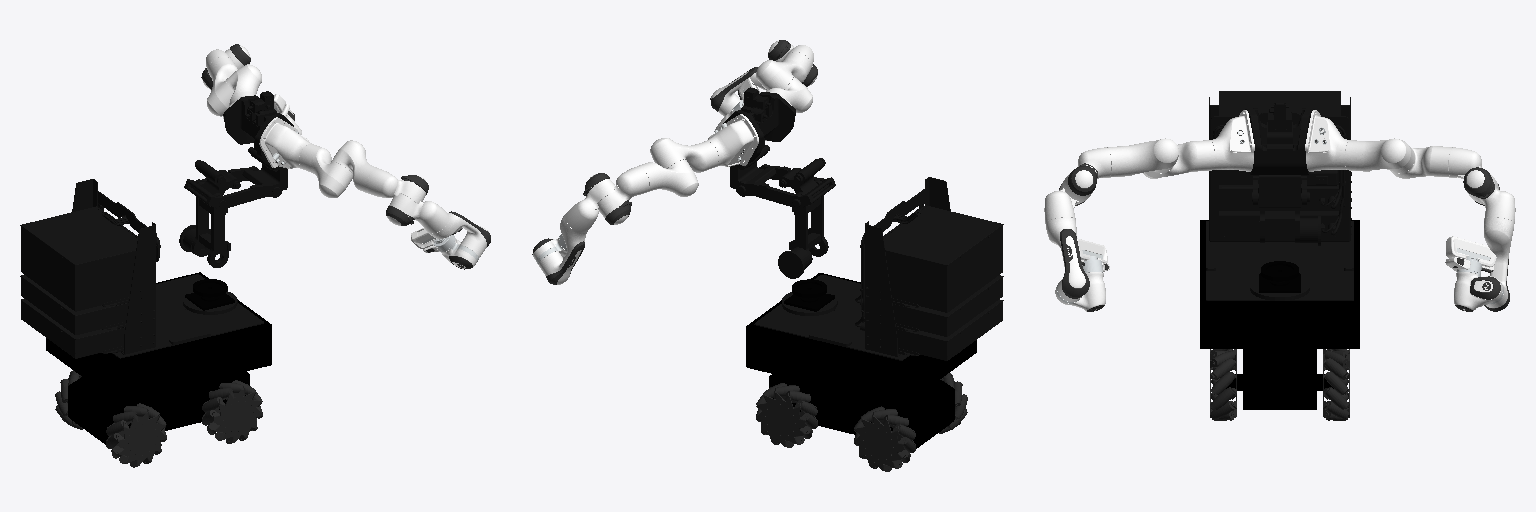
--- What the picture shows (computed from the rendered views, not written in the file) ---
The picture shows the robot from 3 angles, left to right: view 1: azimuth 30°, elevation 25°; view 2: azimuth 150°, elevation 25°; view 3: azimuth 270°, elevation 25°; orthographic projection.
Model curi with 35 links and 34 joints (21 revolute, 12 fixed, 1 floating), rooted at world, posed all joints at 0 but 2 set to mid-range because 0 is outside their limits (panda_left_joint4 = -1.57, panda_right_joint4 = -1.57).
Visible links, largest first — view 1: control_box, summit_xls_base_link, summit_xls_back_right_wheel_link, summit_xls_front_right_wheel_link, torso_link_b2, torso_end, torso_link_c1, panda_right_link0, panda_right_link1, panda_right_link4, panda_right_link3, panda_left_link2 (+7 smaller); view 2: control_box, summit_xls_base_link, summit_xls_back_left_wheel_link, summit_xls_front_left_wheel_link, torso_link_b2, torso_end, torso_link_c1, panda_left_link0, panda_left_link3, panda_left_link1, panda_left_link5, panda_left_link4 (+8 smaller); view 3: control_box, summit_xls_base_link, torso_end, panda_right_link2, panda_left_link1, panda_right_link5, panda_left_link0, panda_right_link0, summit_xls_front_left_wheel_link, summit_xls_front_right_wheel_link, panda_right_link3, panda_left_link4 (+10 smaller).
Boxes of the visible links, x1=… form: control_box: x1=20, y1=179, x2=263, y2=358; summit_xls_base_link: x1=46, y1=272, x2=271, y2=444; summit_xls_back_right_wheel_link: x1=106, y1=403, x2=166, y2=467; summit_xls_front_right_wheel_link: x1=202, y1=380, x2=262, y2=443; torso_link_b2: x1=179, y1=182, x2=230, y2=267; torso_end: x1=223, y1=95, x2=293, y2=189; torso_link_c1: x1=184, y1=166, x2=282, y2=210; panda_right_link0: x1=259, y1=117, x2=311, y2=168; panda_right_link1: x1=299, y1=144, x2=352, y2=197; panda_right_link4: x1=386, y1=193, x2=448, y2=232; panda_right_link3: x1=367, y1=169, x2=428, y2=203; panda_left_link2: x1=207, y1=57, x2=237, y2=116; control_box: x1=754, y1=177, x2=1003, y2=360; summit_xls_base_link: x1=746, y1=273, x2=976, y2=448; summit_xls_back_left_wheel_link: x1=854, y1=406, x2=915, y2=471; summit_xls_front_left_wheel_link: x1=756, y1=383, x2=817, y2=447; torso_link_b2: x1=778, y1=180, x2=828, y2=278; torso_end: x1=723, y1=92, x2=795, y2=188; torso_link_c1: x1=735, y1=164, x2=835, y2=209; panda_left_link0: x1=704, y1=114, x2=758, y2=166; panda_left_link3: x1=598, y1=167, x2=648, y2=224; panda_left_link1: x1=650, y1=138, x2=718, y2=172; panda_left_link5: x1=538, y1=214, x2=587, y2=284; panda_left_link4: x1=566, y1=173, x2=614, y2=232; control_box: x1=1206, y1=91, x2=1353, y2=300; summit_xls_base_link: x1=1200, y1=220, x2=1359, y2=409; torso_end: x1=1245, y1=108, x2=1314, y2=207; panda_right_link2: x1=1107, y1=138, x2=1178, y2=177; panda_left_link1: x1=1345, y1=138, x2=1414, y2=172; panda_right_link5: x1=1045, y1=217, x2=1089, y2=301; panda_left_link0: x1=1305, y1=110, x2=1348, y2=171; panda_right_link0: x1=1211, y1=110, x2=1254, y2=171; summit_xls_front_left_wheel_link: x1=1323, y1=351, x2=1349, y2=420; summit_xls_front_right_wheel_link: x1=1210, y1=351, x2=1236, y2=420; panda_right_link3: x1=1063, y1=147, x2=1111, y2=200; panda_left_link4: x1=1463, y1=167, x2=1515, y2=222.
Size in the robot's own frame: 1.62 by 1.7 by 1.39 metres.
Meshes: 22 distinct files referenced, 31 mesh visuals loaded (20 Collada DAE); not drawn: 2 (reference not matched to a file when rendering).

The robot description file, URDF, robot "curi":
<?xml version="1.0" ?>
<!-- =================================================================================== -->
<!-- |    This document was autogenerated by xacro from ../robots/curi.urdf.xacro      | -->
<!-- |    EDITING THIS FILE BY HAND IS NOT RECOMMENDED                                 | -->
<!-- =================================================================================== -->
<robot name="curi">
  <!-- in kg-->
  <!-- =============================================================== -->
  <!-- || This file does not contain official inertial properties   || -->
  <!-- || of panda robot. The values are from the identification    || -->
  <!-- || results published in: Identification of the Franka Emika  || -->
  <!-- || PandaRobot With Retrieval of Feasible Parameters Using    || -->
  <!-- || Penalty-Based Optimization                                || -->
  <!-- || by: Claudio Gaz, Marco Cognetti, Alexander Oliva,         || -->
  <!-- || Paolo Robuffo Giordano, Alessandro de Luca                || -->
  <!-- =============================================================== -->
  <link name="world"/>
  <joint name="reference" type="floating">
    <parent link="world"/>
    <child link="summit_xls_base_footprint"/>
  </joint>
  <link name="summit_xls_base_footprint">
    <visual>
      <origin rpy="0 0 0" xyz="0 0 0"/>
      <geometry>
        <box size="0.001 0.001 0.001"/>
      </geometry>
    </visual>
  </link>
  <joint name="summit_xls_base_footprint_joint" type="fixed">
    <origin rpy="0 0 0" xyz="0 0 0.127"/>
    <parent link="summit_xls_base_footprint"/>
    <child link="summit_xls_base_link"/>
  </joint>
  <!-- BASE_LINK -->
  <link name="summit_xls_base_link">
    <inertial>
      <mass value="125.0"/>
      <origin xyz="0 0 0"/>
      <inertia ixx="1.391" ixy="0.004" ixz="0.0" iyy="6.853" iyz="0.0" izz="6.125"/>
    </inertial>
    <visual>
      <origin rpy="0 0 0" xyz="0 0 0"/>
      <geometry>
        <mesh filename="../meshes/robotnik/bases/summit_xls_chassis.dae"/>
      </geometry>
      <material name="black">
        <color rgba="0.0 0.0 0.0 1"/>
      </material>
    </visual>
    <collision>
      <origin rpy="0 0 0 " xyz="0 0 0"/>
      <geometry>
        <mesh filename="../meshes/robotnik/bases/summit_xls_chassis.stl"/>
      </geometry>
    </collision>
  </link>
  <joint name="summit_xls_front_right_wheel_joint" type="fixed">
    <parent link="summit_xls_base_link"/>
    <child link="summit_xls_front_right_wheel_link"/>
    <origin rpy="0 0 0" xyz="0.2225 -0.2045 0.0"/>
  </joint>
  <link name="summit_xls_front_right_wheel_link">
    <visual>
      <origin rpy="0 0 0" xyz="0 0 0"/>
      <geometry>
        <mesh filename="../meshes/robotnik/wheels/omni_wheel_2.dae"/>
      </geometry>
      <material name="darkgrey">
        <color rgba="0.2 0.2 0.2 1"/>
      </material>
    </visual>
    <collision>
      <origin rpy="1.5707963267948966 0 0" xyz="0 0 0"/>
      <geometry>
        <cylinder length="0.087" radius="0.127"/>
      </geometry>
    </collision>
    <inertial>
      <mass value="6.5"/>
      <origin xyz="0 0 0"/>
      <inertia ixx="0.0303095" ixy="0" ixz="0" iyy="0.05241925" iyz="0" izz="0.0303095"/>
    </inertial>
  </link>
  <joint name="summit_xls_front_left_wheel_joint" type="fixed">
    <parent link="summit_xls_base_link"/>
    <child link="summit_xls_front_left_wheel_link"/>
    <origin rpy="0 0 0" xyz="0.2225 0.2045 0.0"/>
  </joint>
  <link name="summit_xls_front_left_wheel_link">
    <visual>
      <origin rpy="0 0 0" xyz="0 0 0"/>
      <geometry>
        <mesh filename="../meshes/robotnik/wheels/omni_wheel_1.dae"/>
      </geometry>
      <material name="darkgrey">
        <color rgba="0.2 0.2 0.2 1"/>
      </material>
    </visual>
    <collision>
      <origin rpy="1.5707963267948966 0 0" xyz="0 0 0"/>
      <geometry>
        <cylinder length="0.087" radius="0.127"/>
      </geometry>
    </collision>
    <inertial>
      <mass value="6.5"/>
      <origin xyz="0 0 0"/>
      <inertia ixx="0.0303095" ixy="0" ixz="0" iyy="0.05241925" iyz="0" izz="0.0303095"/>
    </inertial>
  </link>
  <joint name="summit_xls_back_left_wheel_joint" type="fixed">
    <parent link="summit_xls_base_link"/>
    <child link="summit_xls_back_left_wheel_link"/>
    <origin rpy="0 0 0" xyz="-0.2225 0.2045 0.0"/>
  </joint>
  <link name="summit_xls_back_left_wheel_link">
    <visual>
      <origin rpy="0 0 0" xyz="0 0 0"/>
      <geometry>
        <mesh filename="../meshes/robotnik/wheels/omni_wheel_1.dae"/>
      </geometry>
      <material name="darkgrey">
        <color rgba="0.2 0.2 0.2 1"/>
      </material>
    </visual>
    <collision>
      <origin rpy="1.5707963267948966 0 0" xyz="0 0 0"/>
      <geometry>
        <cylinder length="0.087" radius="0.127"/>
      </geometry>
    </collision>
    <inertial>
      <mass value="6.5"/>
      <origin xyz="0 0 0"/>
      <inertia ixx="0.0303095" ixy="0" ixz="0" iyy="0.05241925" iyz="0" izz="0.0303095"/>
    </inertial>
  </link>
  <joint name="summit_xls_back_right_wheel_joint" type="fixed">
    <parent link="summit_xls_base_link"/>
    <child link="summit_xls_back_right_wheel_link"/>
    <origin rpy="0 0 0" xyz="-0.2225 -0.2045 0.0"/>
  </joint>
  <link name="summit_xls_back_right_wheel_link">
    <visual>
      <origin rpy="0 0 0" xyz="0 0 0"/>
      <geometry>
        <mesh filename="../meshes/robotnik/wheels/omni_wheel_2.dae"/>
      </geometry>
      <material name="darkgrey">
        <color rgba="0.2 0.2 0.2 1"/>
      </material>
    </visual>
    <collision>
      <origin rpy="1.5707963267948966 0 0" xyz="0 0 0"/>
      <geometry>
        <cylinder length="0.087" radius="0.127"/>
      </geometry>
    </collision>
    <inertial>
      <mass value="6.5"/>
      <origin xyz="0 0 0"/>
      <inertia ixx="0.0303095" ixy="0" ixz="0" iyy="0.05241925" iyz="0" izz="0.0303095"/>
    </inertial>
  </link>
  <joint name="torso_joint_summit_xls_base_footprint" type="fixed">
    <parent link="summit_xls_base_footprint"/>
    <child link="control_box"/>
    <origin rpy="0 0 0" xyz="0 0 0.52262"/>
  </joint>
  <link name="control_box">
    <visual>
      <origin rpy="0 0 0" xyz="0 0 0"/>
      <geometry>
        <mesh filename="../meshes/clover/visual/control_box.dae"/>
      </geometry>
    </visual>
    <collision>
      <origin rpy="0 0 0" xyz="0 0 0"/>
      <geometry>
        <mesh filename="../meshes/clover/collision/control_box.stl"/>
      </geometry>
    </collision>
    <inertial>
      <!-- Estimated guesses from CAD -->
      <origin rpy="0 0 0" xyz="-0.221652 1.4173e-02 0.165597"/>
      <mass value="37.813"/>
      <inertia ixx="1.672305973" ixy="-0.023504956" ixz="-0.565170381" iyy="2.616747309" iyz="0.046623093" izz="2.524344244"/>
    </inertial>
  </link>
  <link name="torso_base1">
    <visual>
      <origin rpy="0 0 0" xyz="0 0 0"/>
      <geometry>
        <mesh filename="../meshes/clover/visual/torso_base1.dae"/>
      </geometry>
    </visual>
    <collision>
      <origin rpy="0 0 0" xyz="0 0 0"/>
      <geometry>
        <mesh filename="../meshes/clover/collision/torso_base1.stl"/>
      </geometry>
    </collision>
    <inertial>
      <origin rpy="0 0 0" xyz="0 0 0.02555"/>
      <mass value="1.18"/>
      <inertia ixx="0.00241116" ixy="0" ixz="0" iyy="0.00241116" iyz="0" izz="0.00362611"/>
    </inertial>
  </link>
  <joint name="torso_joint1" type="fixed">
    <origin rpy="0 0 0" xyz="0.2375 0 0.015"/>
    <parent link="control_box"/>
    <child link="torso_base1"/>
  </joint>
  <link name="torso_base2">
    <visual>
      <origin rpy="0 0 0" xyz="0 0 0"/>
      <geometry>
        <mesh filename="../meshes/clover/visual/torso_base2.dae"/>
      </geometry>
    </visual>
    <collision>
      <origin rpy="0 0 0" xyz="0 0 0"/>
      <geometry>
        <mesh filename="../meshes/clover/collision/torso_base2.stl"/>
      </geometry>
    </collision>
    <inertial>
      <origin rpy="0 0 0" xyz="-0.05478 0.03332 -0.07616"/>
      <mass value="35.66"/>
      <inertia ixx="0.87275935" ixy="-0.06173772" ixz="0.01895727" iyy="0.57302356" iyz="0.11888755" izz="1.06212354"/>
    </inertial>
  </link>
  <joint name="torso_actuated_joint1" type="revolute">
    <safety_controller k_position="100.0" k_velocity="40.0" soft_lower_limit="-1.5" soft_upper_limit="1.5"/>
    <origin rpy="0 0 0" xyz="0 0 0.215"/>
    <parent link="torso_base1"/>
    <child link="torso_base2"/>
    <axis xyz="0 0 1"/>
    <limit acceleration="0.6" effort="300" lower="-1.57" upper="1.57" velocity="0.3"/>
    <dynamics D="1" K="7000" damping="0.003" friction="0.0" mu_coulomb="0" mu_viscous="16"/>
  </joint>
  <link name="torso_link_b2">
    <visual>
      <origin rpy="0 0 0" xyz="0 0 0"/>
      <geometry>
        <mesh filename="../meshes/clover/visual/torso_link_b2.dae"/>
      </geometry>
    </visual>
    <collision>
      <origin rpy="0 0 0" xyz="0 0 0"/>
      <geometry>
        <mesh filename="../meshes/clover/collision/torso_link_b2.stl"/>
      </geometry>
    </collision>
    <inertial>
      <origin rpy="0 0 0" xyz="2.066e-03 2.4036e-02 8.3361e-02"/>
      <mass value="2.698"/>
      <inertia ixx="0.035907338" ixy="-0.000134319" ixz="0.000037769" iyy="0.023944853" iyz="-0.005304362" izz="0.014484777"/>
    </inertial>
  </link>
  <joint name="torso_actuated_joint2" type="revolute">
    <safety_controller k_position="100.0" k_velocity="40.0" soft_lower_limit="-1.2" soft_upper_limit="0.5"/>
    <origin rpy="0 0 0" xyz="0 0 0"/>
    <parent link="torso_base2"/>
    <child link="torso_link_b2"/>
    <axis xyz="0 1 0"/>
    <limit acceleration="0.6" effort="300" lower="-1.2" upper="0.5" velocity="0.3"/>
    <dynamics D="1" K="7000" damping="0.003" friction="0.0" mu_coulomb="0" mu_viscous="16"/>
  </joint>
  <link name="torso_middle">
    <visual>
      <origin rpy="0 0 0" xyz="0 0 0"/>
      <geometry>
        <mesh filename="../meshes/clover/visual/torso_middle.dae"/>
      </geometry>
    </visual>
    <collision>
      <origin rpy="0 0 0" xyz="0 0 0"/>
      <geometry>
        <mesh filename="../meshes/clover/collision/torso_middle.stl"/>
      </geometry>
    </collision>
    <inertial>
      <origin rpy="0 0 0" xyz="3.2089e-02 0 4.789e-02"/>
      <mass value="2.688"/>
      <inertia ixx="0.00744652" ixy="-0.00003495" ixz="0.000230038" iyy="0.006884728" iyz="0.000041279" izz="0.008084049"/>
    </inertial>
  </link>
  <joint name="torso_joint5" type="revolute">
    <safety_controller k_position="100.0" k_velocity="40.0" soft_lower_limit="-0.5" soft_upper_limit="1.2"/>
    <origin rpy="0 0 0" xyz="0 0 0.25"/>
    <parent link="torso_link_b2"/>
    <child link="torso_middle"/>
    <axis xyz="0 1 0"/>
    <limit acceleration="0.6" effort="300" lower="-0.5" upper="1.2" velocity="0.3"/>
    <dynamics D="1" K="7000" damping="0.003" friction="0.0" mu_coulomb="0" mu_viscous="16"/>
    <mimic joint="torso_actuated_joint2" multiplier="-1"/>
  </joint>
  <link name="torso_link_c1">
    <visual>
      <origin rpy="0 0 0" xyz="0 0 0"/>
      <geometry>
        <mesh filename="../meshes/clover/visual/torso_link_c1.dae"/>
      </geometry>
    </visual>
    <collision>
      <origin rpy="0 0 0" xyz="0 0 0"/>
      <geometry>
        <mesh filename="../meshes/clover/collision/torso_link_c1.stl"/>
      </geometry>
    </collision>
    <inertial>
      <origin rpy="0 0 0" xyz="0.10533 1.503e-03 9.863e-03"/>
      <mass value="2.4"/>
      <inertia ixx="0.014986407" ixy="-1.7102e-05" ixz="-4.53321e-04" iyy="0.027549549" iyz="-3.557e-05" izz="0.041344611"/>
    </inertial>
  </link>
  <joint name="torso_actuated_joint3" type="revolute">
    <safety_controller k_position="100.0" k_velocity="40.0" soft_lower_limit="-0.9" soft_upper_limit="0.9"/>
    <origin rpy="0 0 0" xyz="0 0 0"/>
    <parent link="torso_middle"/>
    <child link="torso_link_c1"/>
    <axis xyz="0 1 0"/>
    <limit acceleration="0.6" effort="300" lower="-0.9" upper="0.9" velocity="0.3"/>
    <dynamics D="1" K="7000" damping="0.003" friction="0.0" mu_coulomb="0" mu_viscous="16"/>
  </joint>
  <link name="torso_end">
    <visual>
      <origin rpy="0 0 0" xyz="0 0 0"/>
      <geometry>
        <mesh filename="../meshes/clover/visual/torso_end.dae"/>
      </geometry>
    </visual>
    <collision>
      <origin rpy="0 0 0" xyz="0 0 0"/>
      <geometry>
        <mesh filename="../meshes/clover/collision/torso_end.stl"/>
      </geometry>
    </collision>
    <inertial>
      <origin rpy="0 0 0" xyz="1.3086e-02 0.132e-03 0.184066"/>
      <mass value="12.083"/>
      <inertia ixx="0.146638956" ixy="-2.2432e-05" ixz="-0.012989506" iyy="0.097685785" iyz="-2.19304e-04" izz="0.100449047"/>
    </inertial>
  </link>
  <joint name="torso_joint8" type="revolute">
    <safety_controller k_position="100.0" k_velocity="40.0" soft_lower_limit="-0.9" soft_upper_limit="0.9"/>
    <origin rpy="0 0 0" xyz="0.25 0 0"/>
    <parent link="torso_link_c1"/>
    <child link="torso_end"/>
    <axis xyz="0 1 0"/>
    <limit acceleration="0.6" effort="300" lower="-0.9" upper="0.9" velocity="0.3"/>
    <dynamics D="1" K="7000" damping="0.003" friction="0.0" mu_coulomb="0" mu_viscous="16"/>
    <mimic joint="torso_actuated_joint3" multiplier="-1"/>
  </joint>
  <joint name="head_joint_torso_end" type="fixed">
    <parent link="torso_end"/>
    <child link="head_base"/>
    <origin rpy="0 0 0" xyz="0.01466 0 0.2775"/>
  </joint>
  <link name="head_base">
    <visual>
      <origin rpy="0 0 0" xyz="0 0 0"/>
      <geometry>
        <mesh filename="../meshes/clover/visual/head_base.dae"/>
      </geometry>
    </visual>
    <collision>
      <origin rpy="0 0 0" xyz="0 0 0"/>
      <geometry>
        <mesh filename="../meshes/clover/collision/head_base.stl"/>
      </geometry>
    </collision>
    <inertial>
      <!-- Estimated guesses from CAD -->
      <origin rpy="0 0 0" xyz="-1.9726e-02 1.281e-03 2.2693e-02"/>
      <mass value="0.803"/>
      <inertia ixx="6.56432e-04" ixy="-3.4976e-05" ixz="0.652e-6" iyy="6.42664e-04" iyz="-1.577e-06" izz="1.046862e-03"/>
    </inertial>
  </link>
  <joint name="head_actuated_joint1" type="revolute">
    <safety_controller k_position="100.0" k_velocity="40.0" soft_lower_limit="-1.5" soft_upper_limit="1.5"/>
    <origin rpy="0 0 0" xyz="0 0 0.045"/>
    <parent link="head_base"/>
    <child link="head_link1"/>
    <axis xyz="0 0 1"/>
    <limit effort="30" lower="-1.57" upper="1.57" velocity="1.0"/>
    <dynamics D="1" K="7000" damping="0.003" friction="0.0" mu_coulomb="0" mu_viscous="16"/>
  </joint>
  <link name="head_link1">
    <visual>
      <origin rpy="0 0 0" xyz="0 0 0"/>
      <geometry>
        <mesh filename="../meshes/clover/visual/head_link1.dae"/>
      </geometry>
    </visual>
    <collision>
      <origin rpy="0 0 0" xyz="0 0 0"/>
      <geometry>
        <mesh filename="../meshes/clover/collision/head_link1.stl"/>
      </geometry>
    </collision>
    <inertial>
      <!-- Estimated guesses from CAD -->
      <origin rpy="0 0 0" xyz="-1.8392e-02 -0.4e-03 2.8338e-02"/>
      <mass value="0.534"/>
      <inertia ixx="2.34142e-04" ixy="-3.129e-06" ixz="6.321e-05" iyy="5.09246e-04" iyz="1.49e-06" izz="4.3777e-04"/>
    </inertial>
  </link>
  <joint name="head_actuated_joint2" type="revolute">
    <safety_controller k_position="100.0" k_velocity="40.0" soft_lower_limit="-0.8" soft_upper_limit="0.5"/>
    <origin rpy="0 0 0" xyz="0 0 0.043"/>
    <parent link="head_link1"/>
    <child link="head_link2"/>
    <axis xyz="0 1 0"/>
    <limit effort="30" lower="-0.82" upper="0.52" velocity="1.0"/>
    <dynamics D="1" K="7000" damping="0.003" friction="0.0" mu_coulomb="0" mu_viscous="16"/>
  </joint>
  <link name="head_link2">
    <visual>
      <origin rpy="0 0 0" xyz="0 0 0"/>
      <geometry>
        <mesh filename="../meshes/clover/visual/head_link2.dae"/>
      </geometry>
    </visual>
    <collision>
      <origin rpy="0 0 0" xyz="0 0 0"/>
      <geometry>
        <mesh filename="../meshes/clover/collision/head_link2.stl"/>
      </geometry>
    </collision>
    <inertial>
      <!-- Estimated guesses from CAD -->
      <origin rpy="0 0 0" xyz="3.8624e-02 0 0.143829"/>
      <mass value="1.346"/>
      <inertia ixx="0.010306864" ixy="-5.953e-06" ixz="6.74795e-04" iyy="0.011632066" iyz="-1.125e-06" izz="0.009582498"/>
    </inertial>
  </link>
  <joint name="panda_left_joint_torso_end" type="fixed">
    <parent link="torso_end"/>
    <child link="panda_left_link0"/>
    <origin rpy="-1.5004311592913677 0.8772798703277918 -0.2038499389018784" xyz="0.02842 0.11216 0.19004"/>
  </joint>
  <link name="panda_left_link0">
    <visual>
      <origin rpy="0 0 0" xyz="0 0 0"/>
      <geometry>
        <mesh filename="../meshes/franka/visual/link0.dae"/>
      </geometry>
    </visual>
    <collision>
      <origin rpy="0 0 0" xyz="0 0 0"/>
      <geometry>
        <mesh filename="../meshes/franka/collision/link0.stl"/>
      </geometry>
    </collision>
    <inertial>
      <!-- Estimated guesses from CAD -->
      <origin rpy="0 0 0" xyz="-0.041018 -0.00014 0.049974"/>
      <mass value="0.629769"/>
      <inertia ixx="0.00315" ixy="8.2904E-07" ixz="0.00015" iyy="0.00388" iyz="8.2299E-06" izz="0.004285"/>
    </inertial>
  </link>
  <link name="panda_left_link1">
    <visual>
      <origin rpy="0 0 0" xyz="0 0 0"/>
      <geometry>
        <mesh filename="../meshes/franka/visual/link1.dae"/>
      </geometry>
    </visual>
    <collision>
      <origin rpy="0 0 0" xyz="0 0 0"/>
      <geometry>
        <mesh filename="../meshes/franka/collision/link1.stl"/>
      </geometry>
    </collision>
    <inertial>
      <origin rpy="0 0 0" xyz="0.003875 0.002081 -0.04762"/>
      <mass value="4.970684"/>
      <inertia ixx="0.70337" ixy="-0.00013900" ixz="0.0067720" iyy="0.70661" iyz="0.019169" izz="0.0091170"/>
    </inertial>
  </link>
  <joint name="panda_left_joint1" type="revolute">
    <safety_controller k_position="100.0" k_velocity="40.0" soft_lower_limit="-2.8973" soft_upper_limit="2.8973"/>
    <origin rpy="0 0 0" xyz="0 0 0.333"/>
    <parent link="panda_left_link0"/>
    <child link="panda_left_link1"/>
    <axis xyz="0 0 1"/>
    <limit acceleration="15" effort="87" lower="-2.8973" upper="2.8973" velocity="2.1750"/>
    <dynamics D="1" K="7000" damping="0.003" friction="0.0" mu_coulomb="0" mu_viscous="16"/>
  </joint>
  <link name="panda_left_link2">
    <visual>
      <origin rpy="0 0 0" xyz="0 0 0"/>
      <geometry>
        <mesh filename="../meshes/franka/visual/link2.dae"/>
      </geometry>
    </visual>
    <collision>
      <origin rpy="0 0 0" xyz="0 0 0"/>
      <geometry>
        <mesh filename="../meshes/franka/collision/link2.stl"/>
      </geometry>
    </collision>
    <inertial>
      <origin rpy="0 0 0" xyz=" -0.003141 -0.02872  0.003495"/>
      <mass value="0.646926"/>
      <inertia ixx="0.0079620" ixy="-3.9250e-3" ixz="1.0254e-02" iyy="2.8110e-02" iyz="7.0400e-04" izz="2.5995e-02"/>
    </inertial>
  </link>
  <joint name="panda_left_joint2" type="revolute">
    <safety_controller k_position="100.0" k_velocity="40.0" soft_lower_limit="-1.7628" soft_upper_limit="1.7628"/>
    <origin rpy="-1.5707963267948966 0 0" xyz="0 0 0"/>
    <parent link="panda_left_link1"/>
    <child link="panda_left_link2"/>
    <axis xyz="0 0 1"/>
    <limit acceleration="7.5" effort="87" lower="-1.7628" upper="1.7628" velocity="2.1750"/>
    <dynamics D="1" K="7000" damping="0.003" friction="0.0" mu_coulomb="0" mu_viscous="16"/>
  </joint>
  <link name="panda_left_link3">
    <visual>
      <origin rpy="0 0 0" xyz="0 0 0"/>
      <geometry>
        <mesh filename="../meshes/franka/visual/link3.dae"/>
      </geometry>
    </visual>
    <collision>
      <origin rpy="0 0 0" xyz="0 0 0"/>
      <geometry>
        <mesh filename="../meshes/franka/collision/link3.stl"/>
      </geometry>
    </collision>
    <inertial>
      <origin rpy="0 0 0" xyz="2.7518e-02 3.9252e-02 -6.6502e-02"/>
      <mass value="3.228604"/>
      <inertia ixx="3.7242e-02" ixy="-4.7610e-03" ixz="-1.1396e-02" iyy="3.6155e-02" iyz="-1.2805e-02" izz="1.0830e-02"/>
    </inertial>
  </link>
  <joint name="panda_left_joint3" type="revolute">
    <safety_controller k_position="100.0" k_velocity="40.0" soft_lower_limit="-2.8973" soft_upper_limit="2.8973"/>
    <origin rpy="1.5707963267948966 0 0" xyz="0 -0.316 0"/>
    <parent link="panda_left_link2"/>
    <child link="panda_left_link3"/>
    <axis xyz="0 0 1"/>
    <limit acceleration="12.5" effort="87" lower="-2.8973" upper="2.8973" velocity="2.1750"/>
    <dynamics D="1" K="7000" damping="0.003" friction="0.0" mu_coulomb="0" mu_viscous="16"/>
  </joint>
  <link name="panda_left_link4">
    <visual>
      <origin rpy="0 0 0" xyz="0 0 0"/>
      <geometry>
        <mesh filename="../meshes/franka/visual/link4.dae"/>
      </geometry>
    </visual>
    <collision>
      <origin rpy="0 0 0" xyz="0 0 0"/>
      <geometry>
        <mesh filename="../meshes/franka/collision/link4.stl"/>
      </geometry>
    </collision>
    <inertial>
      <origin rpy="0 0 0" xyz="-5.317e-02 1.04419e-01 2.7454e-02"/>
      <mass value="3.587895"/>
      <inertia ixx="2.5853e-02" ixy="7.7960e-03" ixz="-1.3320e-03" iyy="1.9552e-02" iyz="8.6410e-03" izz="2.8323e-02"/>
    </inertial>
  </link>
  <joint name="panda_left_joint4" type="revolute">
    <safety_controller k_position="100.0" k_velocity="40.0" soft_lower_limit="-3.0718" soft_upper_limit="-0.0698"/>
    <origin rpy="1.5707963267948966 0 0" xyz="0.0825 0 0"/>
    <parent link="panda_left_link3"/>
    <child link="panda_left_link4"/>
    <axis xyz="0 0 1"/>
    <limit acceleration="12.5" effort="87" lower="-3.0718" upper="-0.0698" velocity="2.1750"/>
    <dynamics D="1" K="7000" damping="0.003" friction="0.0" mu_coulomb="0" mu_viscous="16"/>
  </joint>
  <link name="panda_left_link5">
    <visual>
      <origin rpy="0 0 0" xyz="0 0 0"/>
      <geometry>
        <mesh filename="../meshes/franka/visual/link5.dae"/>
      </geometry>
    </visual>
    <collision>
      <origin rpy="0 0 0" xyz="0 0 0"/>
      <geometry>
        <mesh filename="../meshes/franka/collision/link5.stl"/>
      </geometry>
    </collision>
    <inertial>
      <origin rpy="0 0 0" xyz="-1.1953e-02 4.1065e-02 -3.8437e-02"/>
      <mass value="1.225946"/>
      <inertia ixx="3.5549e-02" ixy="-2.1170e-03" ixz="-4.0370e-03" iyy="2.9474e-02" iyz="2.2900e-04" izz="8.6270e-03"/>
    </inertial>
  </link>
  <joint name="panda_left_joint5" type="revolute">
    <safety_controller k_position="100.0" k_velocity="40.0" soft_lower_limit="-2.8973" soft_upper_limit="2.8973"/>
    <origin rpy="-1.5707963267948966 0 0" xyz="-0.0825 0.384 0"/>
    <parent link="panda_left_link4"/>
    <child link="panda_left_link5"/>
    <axis xyz="0 0 1"/>
    <limit acceleration="15" effort="12" lower="-2.8973" upper="2.8973" velocity="2.6100"/>
    <dynamics D="1" K="7000" damping="0.003" friction="0.0" mu_coulomb="0" mu_viscous="16"/>
  </joint>
  <link name="panda_left_link6">
    <visual>
      <origin rpy="0 0 0" xyz="0 0 0"/>
      <geometry>
        <mesh filename="../meshes/franka/visual/link6.dae"/>
      </geometry>
    </visual>
    <collision>
      <origin rpy="0 0 0" xyz="0 0 0"/>
      <geometry>
        <mesh filename="../meshes/franka/collision/link6.stl"/>
      </geometry>
    </collision>
    <inertial>
      <origin rpy="0 0 0" xyz="6.0149e-02 -1.4117e-02 -1.0517e-02"/>
      <mass value="1.666555"/>
      <inertia ixx="1.9640e-03" ixy="1.0900e-04" ixz="-1.1580e-03" iyy="4.3540e-03" iyz="3.4100e-04" izz="5.4330e-03"/>
    </inertial>
  </link>
  <joint name="panda_left_joint6" type="revolute">
    <safety_controller k_position="100.0" k_velocity="40.0" soft_lower_limit="-0.0175" soft_upper_limit="3.7525"/>
    <origin rpy="1.5707963267948966 0 0" xyz="0 0 0"/>
    <parent link="panda_left_link5"/>
    <child link="panda_left_link6"/>
    <axis xyz="0 0 1"/>
    <limit acceleration="20" effort="12" lower="-0.0175" upper="3.7525" velocity="2.6100"/>
    <dynamics D="1" K="7000" damping="0.003" friction="0.0" mu_coulomb="0" mu_viscous="16"/>
  </joint>
  <link name="panda_left_link7">
    <visual>
      <origin rpy="0 0 0" xyz="0 0 0"/>
      <geometry>
        <mesh filename="../meshes/franka/visual/link7.dae"/>
      </geometry>
    </visual>
    <collision>
      <origin rpy="0 0 0" xyz="0 0 0"/>
      <geometry>
        <mesh filename="../meshes/franka/collision/link7.stl"/>
      </geometry>
    </collision>
    <inertial>
      <origin rpy="0 0 0" xyz="1.0517e-02 -4.252e-03 6.1597e-02"/>
      <mass value="7.35522e-01"/>
      <inertia ixx="1.2516e-02" ixy="-4.2800e-04" ixz="-1.1960e-03" iyy="1.0027e-02" iyz="-7.4100e-04" izz="4.8150e-03"/>
    </inertial>
  </link>
  <joint name="panda_left_joint7" type="revolute">
    <safety_controller k_position="100.0" k_velocity="40.0" soft_lower_limit="-2.8973" soft_upper_limit="2.8973"/>
    <origin rpy="1.5707963267948966 0 0" xyz="0.088 0 0"/>
    <parent link="panda_left_link6"/>
    <child link="panda_left_link7"/>
    <axis xyz="0 0 1"/>
    <limit acceleration="20" effort="12" lower="-2.8973" upper="2.8973" velocity="2.6100"/>
    <dynamics D="1" K="7000" damping="0.003" friction="0.0" mu_coulomb="0" mu_viscous="16"/>
  </joint>
  <joint name="panda_right_joint_torso_end" type="fixed">
    <parent link="torso_end"/>
    <child link="panda_right_link0"/>
    <origin rpy="1.5004311592913677 0.8772798703277918 0.2038499389018784" xyz="0.02842 -0.11216 0.19004"/>
  </joint>
  <link name="panda_right_link0">
    <visual>
      <origin rpy="0 0 0" xyz="0 0 0"/>
      <geometry>
        <mesh filename="../meshes/franka/visual/link0.dae"/>
      </geometry>
    </visual>
    <collision>
      <origin rpy="0 0 0" xyz="0 0 0"/>
      <geometry>
        <mesh filename="../meshes/franka/collision/link0.stl"/>
      </geometry>
    </collision>
    <inertial>
      <!-- Estimated guesses from CAD -->
      <origin rpy="0 0 0" xyz="-0.041018 -0.00014 0.049974"/>
      <mass value="0.629769"/>
      <inertia ixx="0.00315" ixy="8.2904E-07" ixz="0.00015" iyy="0.00388" iyz="8.2299E-06" izz="0.004285"/>
    </inertial>
  </link>
  <link name="panda_right_link1">
    <visual>
      <origin rpy="0 0 0" xyz="0 0 0"/>
      <geometry>
        <mesh filename="../meshes/franka/visual/link1.dae"/>
      </geometry>
    </visual>
    <collision>
      <origin rpy="0 0 0" xyz="0 0 0"/>
      <geometry>
        <mesh filename="../meshes/franka/collision/link1.stl"/>
      </geometry>
    </collision>
    <inertial>
      <origin rpy="0 0 0" xyz="0.003875 0.002081 -0.04762"/>
      <mass value="4.970684"/>
      <inertia ixx="0.70337" ixy="-0.00013900" ixz="0.0067720" iyy="0.70661" iyz="0.019169" izz="0.0091170"/>
    </inertial>
  </link>
  <joint name="panda_right_joint1" type="revolute">
    <safety_controller k_position="100.0" k_velocity="40.0" soft_lower_limit="-2.8973" soft_upper_limit="2.8973"/>
    <origin rpy="0 0 0" xyz="0 0 0.333"/>
    <parent link="panda_right_link0"/>
    <child link="panda_right_link1"/>
    <axis xyz="0 0 1"/>
    <limit acceleration="15" effort="87" lower="-2.8973" upper="2.8973" velocity="2.1750"/>
    <dynamics D="1" K="7000" damping="0.003" friction="0.0" mu_coulomb="0" mu_viscous="16"/>
  </joint>
  <link name="panda_right_link2">
    <visual>
      <origin rpy="0 0 0" xyz="0 0 0"/>
      <geometry>
        <mesh filename="../meshes/franka/visual/link2.dae"/>
      </geometry>
    </visual>
    <collision>
      <origin rpy="0 0 0" xyz="0 0 0"/>
      <geometry>
        <mesh filename="../meshes/franka/collision/link2.stl"/>
      </geometry>
    </collision>
    <inertial>
      <origin rpy="0 0 0" xyz=" -0.003141 -0.02872  0.003495"/>
      <mass value="0.646926"/>
      <inertia ixx="0.0079620" ixy="-3.9250e-3" ixz="1.0254e-02" iyy="2.8110e-02" iyz="7.0400e-04" izz="2.5995e-02"/>
    </inertial>
  </link>
  <joint name="panda_right_joint2" type="revolute">
    <safety_controller k_position="100.0" k_velocity="40.0" soft_lower_limit="-1.7628" soft_upper_limit="1.7628"/>
    <origin rpy="-1.5707963267948966 0 0" xyz="0 0 0"/>
    <parent link="panda_right_link1"/>
    <child link="panda_right_link2"/>
    <axis xyz="0 0 1"/>
    <limit acceleration="7.5" effort="87" lower="-1.7628" upper="1.7628" velocity="2.1750"/>
    <dynamics D="1" K="7000" damping="0.003" friction="0.0" mu_coulomb="0" mu_viscous="16"/>
  </joint>
  <link name="panda_right_link3">
    <visual>
      <origin rpy="0 0 0" xyz="0 0 0"/>
      <geometry>
        <mesh filename="../meshes/franka/visual/link3.dae"/>
      </geometry>
    </visual>
    <collision>
      <origin rpy="0 0 0" xyz="0 0 0"/>
      <geometry>
        <mesh filename="../meshes/franka/collision/link3.stl"/>
      </geometry>
    </collision>
    <inertial>
      <origin rpy="0 0 0" xyz="2.7518e-02 3.9252e-02 -6.6502e-02"/>
      <mass value="3.228604"/>
      <inertia ixx="3.7242e-02" ixy="-4.7610e-03" ixz="-1.1396e-02" iyy="3.6155e-02" iyz="-1.2805e-02" izz="1.0830e-02"/>
    </inertial>
  </link>
  <joint name="panda_right_joint3" type="revolute">
    <safety_controller k_position="100.0" k_velocity="40.0" soft_lower_limit="-2.8973" soft_upper_limit="2.8973"/>
    <origin rpy="1.5707963267948966 0 0" xyz="0 -0.316 0"/>
    <parent link="panda_right_link2"/>
    <child link="panda_right_link3"/>
    <axis xyz="0 0 1"/>
    <limit acceleration="12.5" effort="87" lower="-2.8973" upper="2.8973" velocity="2.1750"/>
    <dynamics D="1" K="7000" damping="0.003" friction="0.0" mu_coulomb="0" mu_viscous="16"/>
  </joint>
  <link name="panda_right_link4">
    <visual>
      <origin rpy="0 0 0" xyz="0 0 0"/>
      <geometry>
        <mesh filename="../meshes/franka/visual/link4.dae"/>
      </geometry>
    </visual>
    <collision>
      <origin rpy="0 0 0" xyz="0 0 0"/>
      <geometry>
        <mesh filename="../meshes/franka/collision/link4.stl"/>
      </geometry>
    </collision>
    <inertial>
      <origin rpy="0 0 0" xyz="-5.317e-02 1.04419e-01 2.7454e-02"/>
      <mass value="3.587895"/>
      <inertia ixx="2.5853e-02" ixy="7.7960e-03" ixz="-1.3320e-03" iyy="1.9552e-02" iyz="8.6410e-03" izz="2.8323e-02"/>
    </inertial>
  </link>
  <joint name="panda_right_joint4" type="revolute">
    <safety_controller k_position="100.0" k_velocity="40.0" soft_lower_limit="-3.0718" soft_upper_limit="-0.0698"/>
    <origin rpy="1.5707963267948966 0 0" xyz="0.0825 0 0"/>
    <parent link="panda_right_link3"/>
    <child link="panda_right_link4"/>
    <axis xyz="0 0 1"/>
    <limit acceleration="12.5" effort="87" lower="-3.0718" upper="-0.0698" velocity="2.1750"/>
    <dynamics D="1" K="7000" damping="0.003" friction="0.0" mu_coulomb="0" mu_viscous="16"/>
  </joint>
  <link name="panda_right_link5">
    <visual>
      <origin rpy="0 0 0" xyz="0 0 0"/>
      <geometry>
        <mesh filename="../meshes/franka/visual/link5.dae"/>
      </geometry>
    </visual>
    <collision>
      <origin rpy="0 0 0" xyz="0 0 0"/>
      <geometry>
        <mesh filename="../meshes/franka/collision/link5.stl"/>
      </geometry>
    </collision>
    <inertial>
      <origin rpy="0 0 0" xyz="-1.1953e-02 4.1065e-02 -3.8437e-02"/>
      <mass value="1.225946"/>
      <inertia ixx="3.5549e-02" ixy="-2.1170e-03" ixz="-4.0370e-03" iyy="2.9474e-02" iyz="2.2900e-04" izz="8.6270e-03"/>
    </inertial>
  </link>
  <joint name="panda_right_joint5" type="revolute">
    <safety_controller k_position="100.0" k_velocity="40.0" soft_lower_limit="-2.8973" soft_upper_limit="2.8973"/>
    <origin rpy="-1.5707963267948966 0 0" xyz="-0.0825 0.384 0"/>
    <parent link="panda_right_link4"/>
    <child link="panda_right_link5"/>
    <axis xyz="0 0 1"/>
    <limit acceleration="15" effort="12" lower="-2.8973" upper="2.8973" velocity="2.6100"/>
    <dynamics D="1" K="7000" damping="0.003" friction="0.0" mu_coulomb="0" mu_viscous="16"/>
  </joint>
  <link name="panda_right_link6">
    <visual>
      <origin rpy="0 0 0" xyz="0 0 0"/>
      <geometry>
        <mesh filename="../meshes/franka/visual/link6.dae"/>
      </geometry>
    </visual>
    <collision>
      <origin rpy="0 0 0" xyz="0 0 0"/>
      <geometry>
        <mesh filename="../meshes/franka/collision/link6.stl"/>
      </geometry>
    </collision>
    <inertial>
      <origin rpy="0 0 0" xyz="6.0149e-02 -1.4117e-02 -1.0517e-02"/>
      <mass value="1.666555"/>
      <inertia ixx="1.9640e-03" ixy="1.0900e-04" ixz="-1.1580e-03" iyy="4.3540e-03" iyz="3.4100e-04" izz="5.4330e-03"/>
    </inertial>
  </link>
  <joint name="panda_right_joint6" type="revolute">
    <safety_controller k_position="100.0" k_velocity="40.0" soft_lower_limit="-0.0175" soft_upper_limit="3.7525"/>
    <origin rpy="1.5707963267948966 0 0" xyz="0 0 0"/>
    <parent link="panda_right_link5"/>
    <child link="panda_right_link6"/>
    <axis xyz="0 0 1"/>
    <limit acceleration="20" effort="12" lower="-0.0175" upper="3.7525" velocity="2.6100"/>
    <dynamics D="1" K="7000" damping="0.003" friction="0.0" mu_coulomb="0" mu_viscous="16"/>
  </joint>
  <link name="panda_right_link7">
    <visual>
      <origin rpy="0 0 0" xyz="0 0 0"/>
      <geometry>
        <mesh filename="../meshes/franka/visual/link7.dae"/>
      </geometry>
    </visual>
    <collision>
      <origin rpy="0 0 0" xyz="0 0 0"/>
      <geometry>
        <mesh filename="../meshes/franka/collision/link7.stl"/>
      </geometry>
    </collision>
    <inertial>
      <origin rpy="0 0 0" xyz="1.0517e-02 -4.252e-03 6.1597e-02"/>
      <mass value="7.35522e-01"/>
      <inertia ixx="1.2516e-02" ixy="-4.2800e-04" ixz="-1.1960e-03" iyy="1.0027e-02" iyz="-7.4100e-04" izz="4.8150e-03"/>
    </inertial>
  </link>
  <joint name="panda_right_joint7" type="revolute">
    <safety_controller k_position="100.0" k_velocity="40.0" soft_lower_limit="-2.8973" soft_upper_limit="2.8973"/>
    <origin rpy="1.5707963267948966 0 0" xyz="0.088 0 0"/>
    <parent link="panda_right_link6"/>
    <child link="panda_right_link7"/>
    <axis xyz="0 0 1"/>
    <limit acceleration="20" effort="12" lower="-2.8973" upper="2.8973" velocity="2.6100"/>
    <dynamics D="1" K="7000" damping="0.003" friction="0.0" mu_coulomb="0" mu_viscous="16"/>
  </joint>
  <joint name="panda_left_hand_joint" type="fixed">
    <parent link="panda_left_link7"/>
    <child link="panda_left_hand"/>
    <origin rpy="0 0 -0.7853981633974483" xyz="0 0 0.107"/>
  </joint>
  <link name="panda_left_hand">
    <visual>
      <geometry>
        <mesh filename="../meshes/franka/visual/hand.dae"/>
      </geometry>
    </visual>
    <collision>
      <geometry>
        <mesh filename="../meshes/franka/collision/hand.stl"/>
      </geometry>
    </collision>
    <inertial>
      <mass value="0.73"/>
      <origin xyz="-0.01 0 0.03"/>
      <inertia ixx="0.001" ixy="0" ixz="0" iyy="0.0025" iyz="0" izz="0.0017"/>
    </inertial>
  </link>
  <joint name="panda_right_hand_joint" type="fixed">
    <parent link="panda_right_link7"/>
    <child link="panda_right_hand"/>
    <origin rpy="0 0 -0.7853981633974483" xyz="0 0 0.107"/>
  </joint>
  <link name="panda_right_hand">
    <visual>
      <geometry>
        <mesh filename="../meshes/franka/visual/hand.dae"/>
      </geometry>
    </visual>
    <collision>
      <geometry>
        <mesh filename="../meshes/franka/collision/hand.stl"/>
      </geometry>
    </collision>
    <inertial>
      <mass value="0.73"/>
      <origin xyz="-0.01 0 0.03"/>
      <inertia ixx="0.001" ixy="0" ixz="0" iyy="0.0025" iyz="0" izz="0.0017"/>
    </inertial>
  </link>
</robot>
